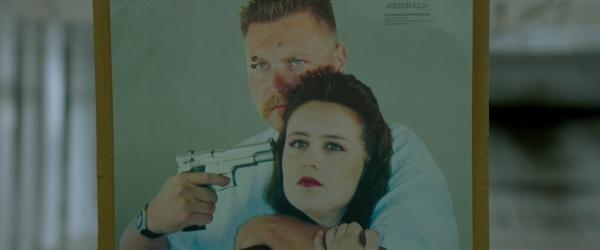Gun: (177, 138, 278, 231)
